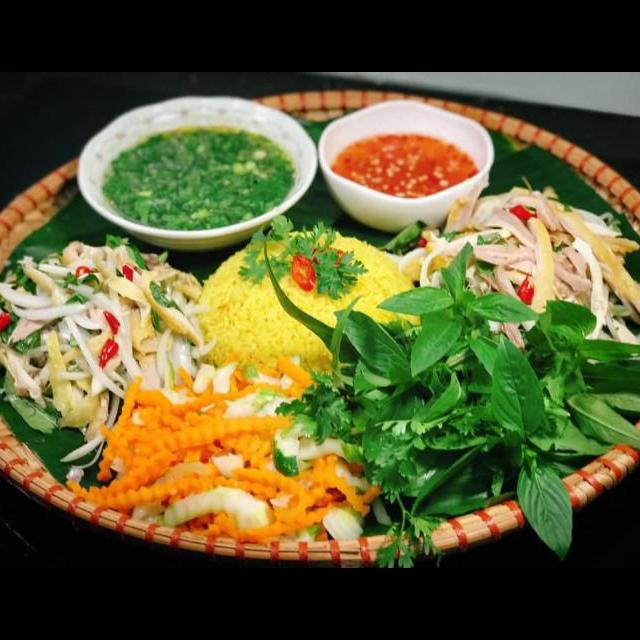com: (190, 225, 423, 391)
com ga: (0, 127, 640, 568)
dua chua: (56, 354, 400, 548)
rau ram: (518, 298, 640, 453), (0, 364, 63, 438)
thit ga: (383, 185, 640, 355), (0, 237, 206, 447)
